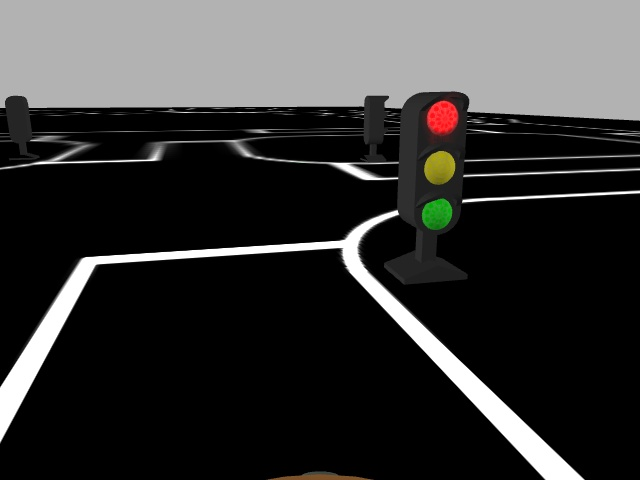red_light: (405, 91, 473, 233)
